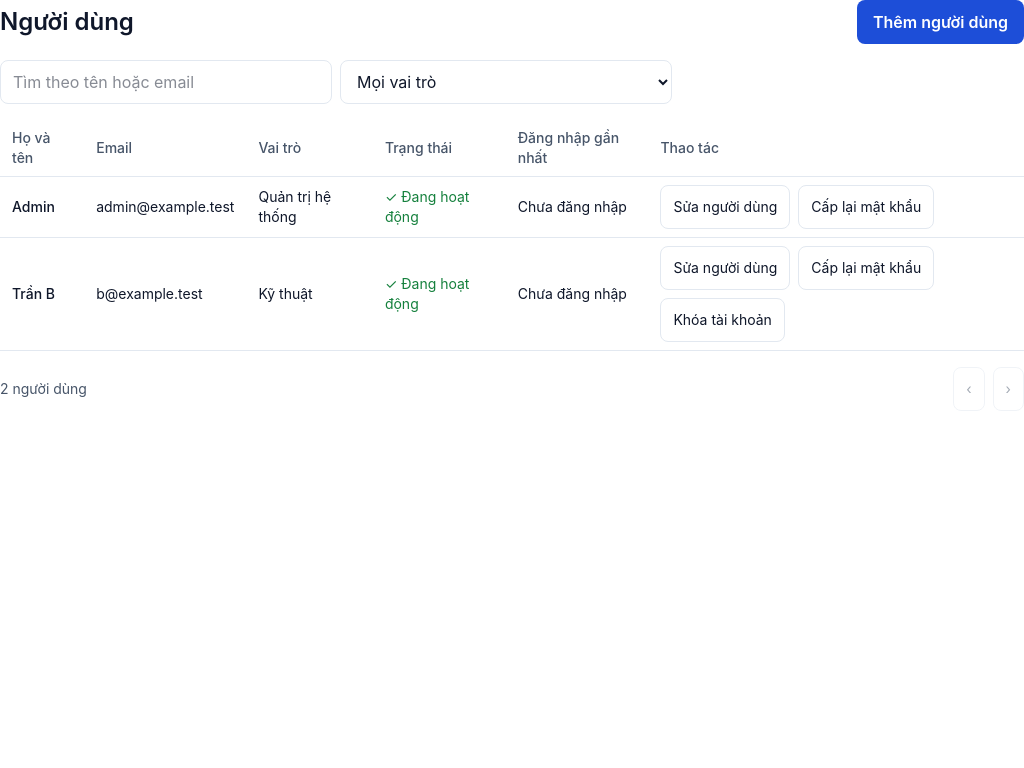
Scenario: UsersPage › creates a user and shows the temporary password once
This screenshot has width=1024, height=768.
Click the button "Thêm người dùng". click: (940, 22)
box: [857,0,1023,44]
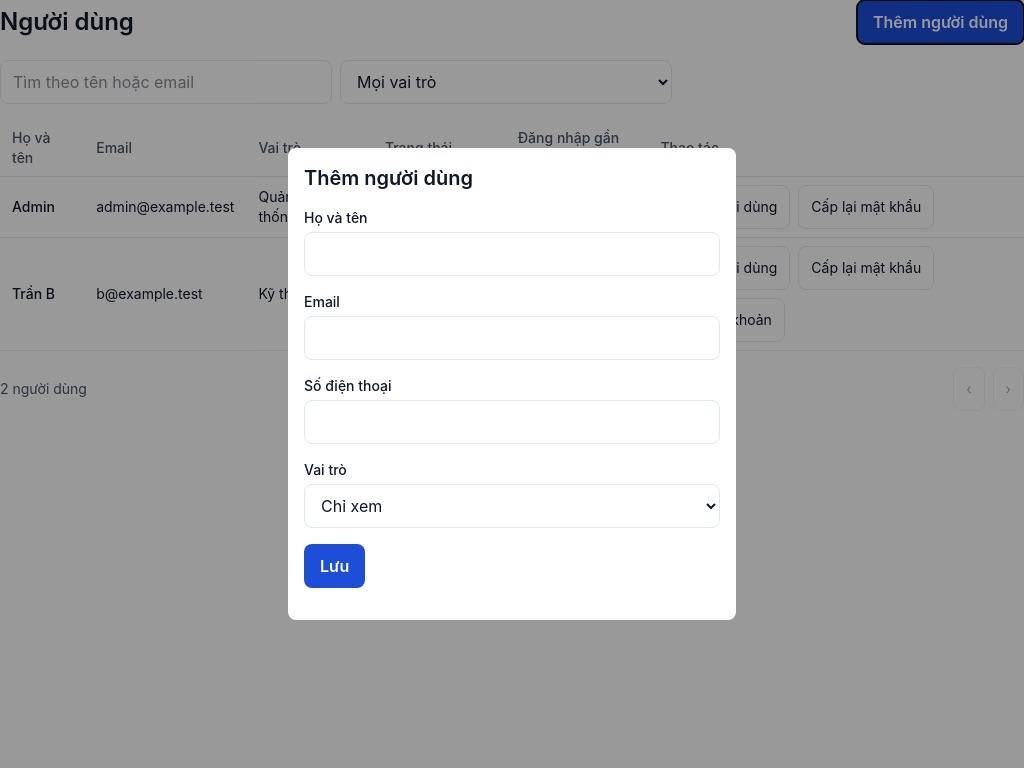
Type "Lê C" into the field labelled "Họ và tên". click: (512, 254)
box: [304,232,720,276]
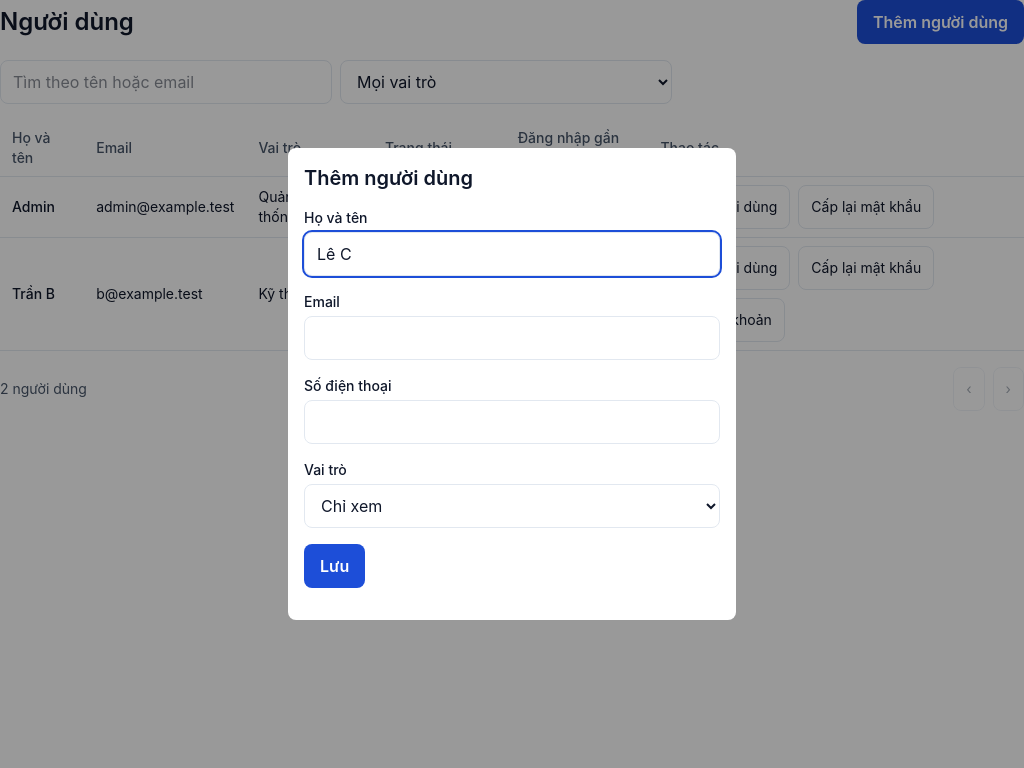
Type "c@example.test" into the field labelled "Email". click: (512, 338)
box: [304,316,720,360]
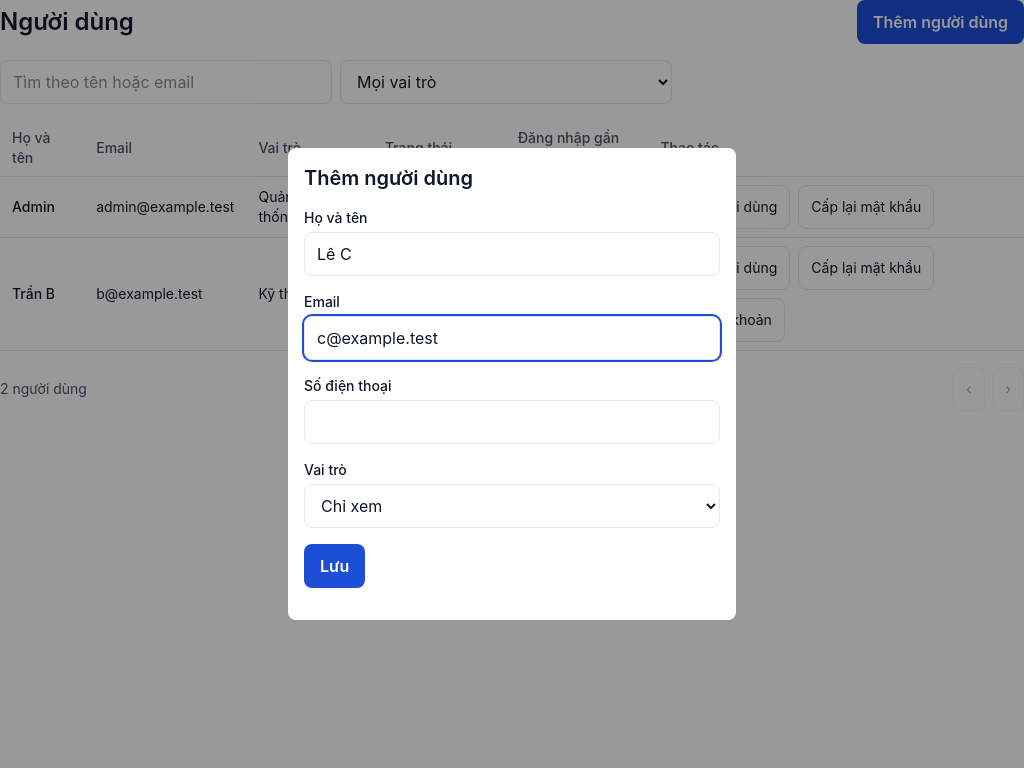
Select "Chi phí, thanh quyết toán" in the dropdown labelled "Vai trò". click: (512, 506)
box: [304,484,720,528]
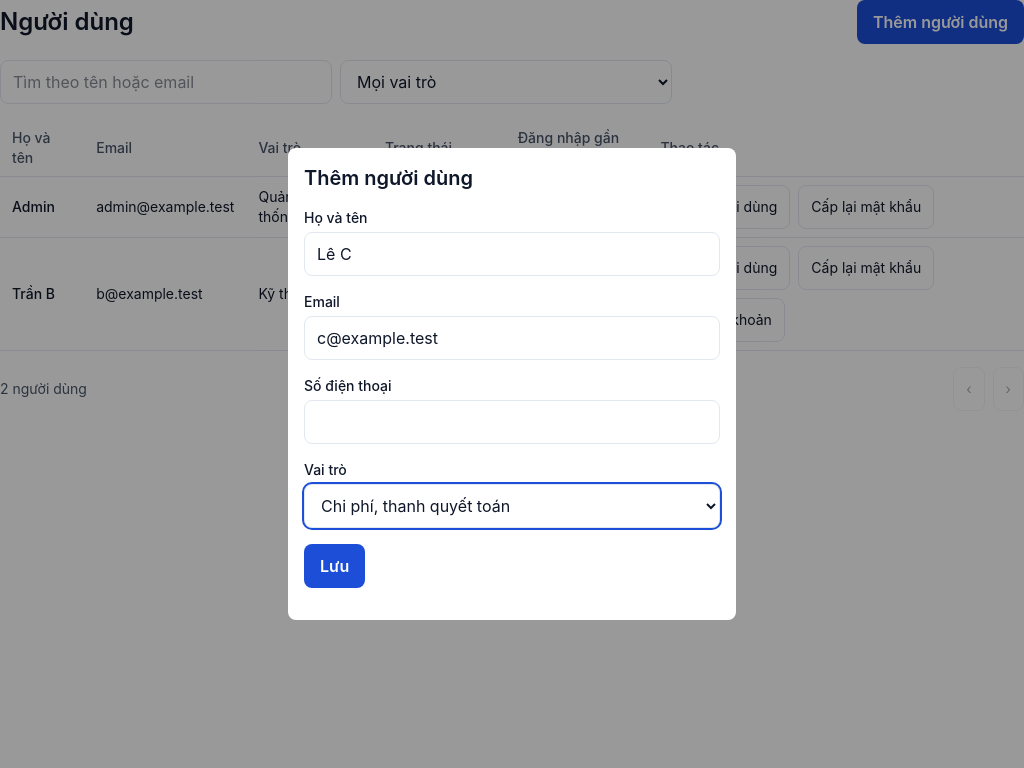
Click the button "Lưu". click: (335, 566)
box: [304,544,365,588]
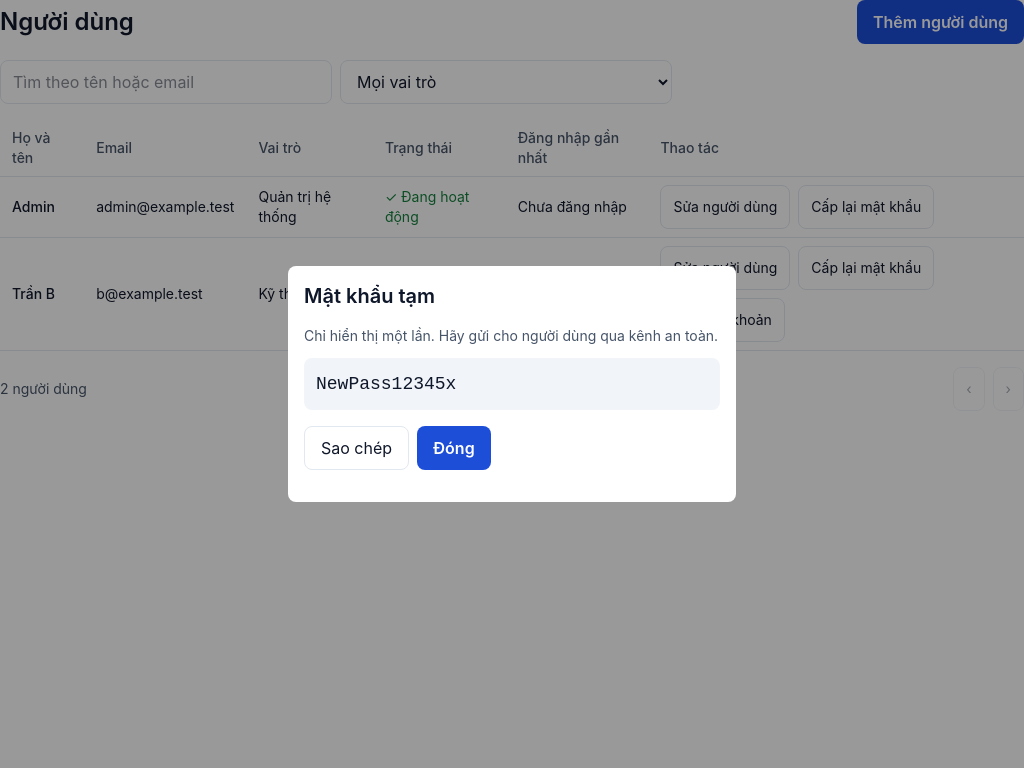
Result: the text with test id "temp-password" reads "NewPass12345x" at [316,374,456,394]
